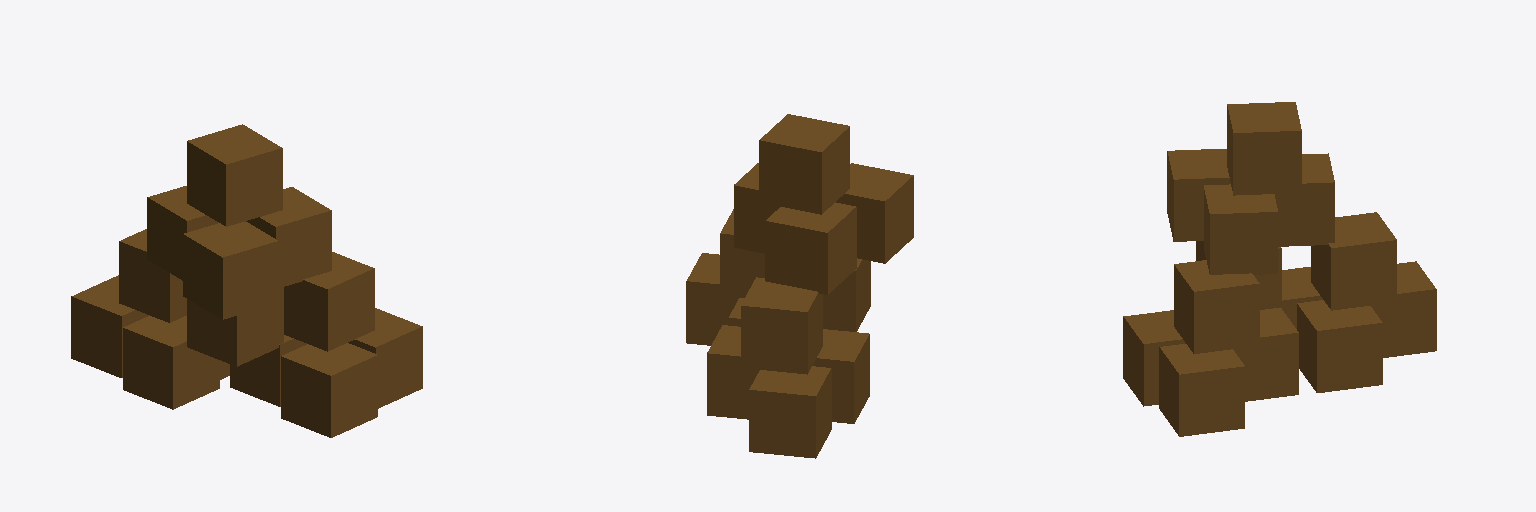
Rendered from bigboxcluster.obj.
3 renders of one model, left to right at view 1: azimuth 30°, elevation 25°; view 2: azimuth 150°, elevation 25°; view 3: azimuth 270°, elevation 25°, orthographic.
Parts seen in each view (by area): view 1: bigboxcluster; view 2: bigboxcluster; view 3: bigboxcluster.
Part boxes in pixels (left/top/right/bottom): bigboxcluster: left=71, top=124, right=422, bottom=437; bigboxcluster: left=686, top=114, right=913, bottom=458; bigboxcluster: left=1123, top=102, right=1436, bottom=436.
Size of the model in its own units: 7.81 by 7.98 by 9.11.